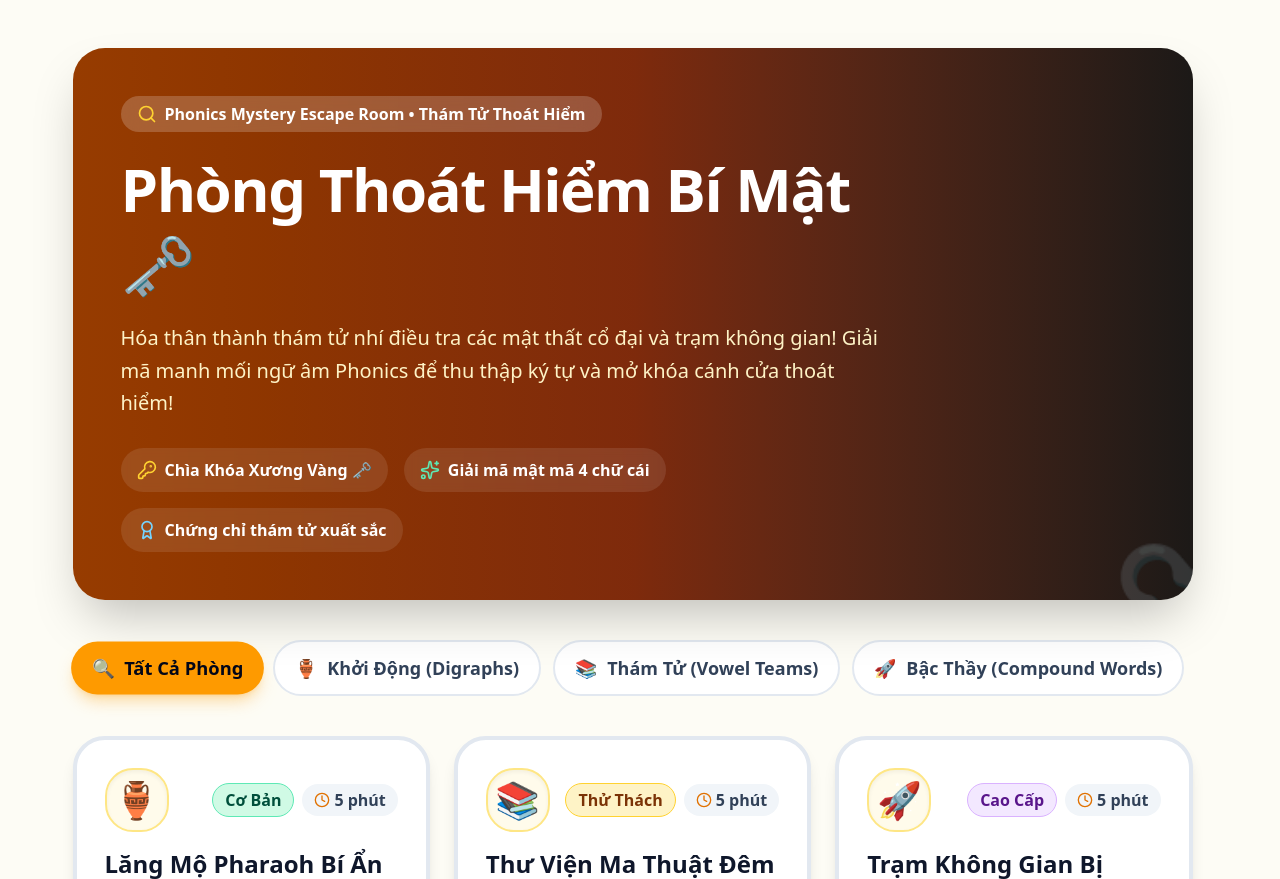
it: Phonics Mystery Escape Room Components › PhonicsEscapeRoomHub › filters rooms by difficulty correctly
Click the button "📚 Thám Tử (Vowel Teams)" at (697, 668), box [553,640,840,696]
(page scrolled)
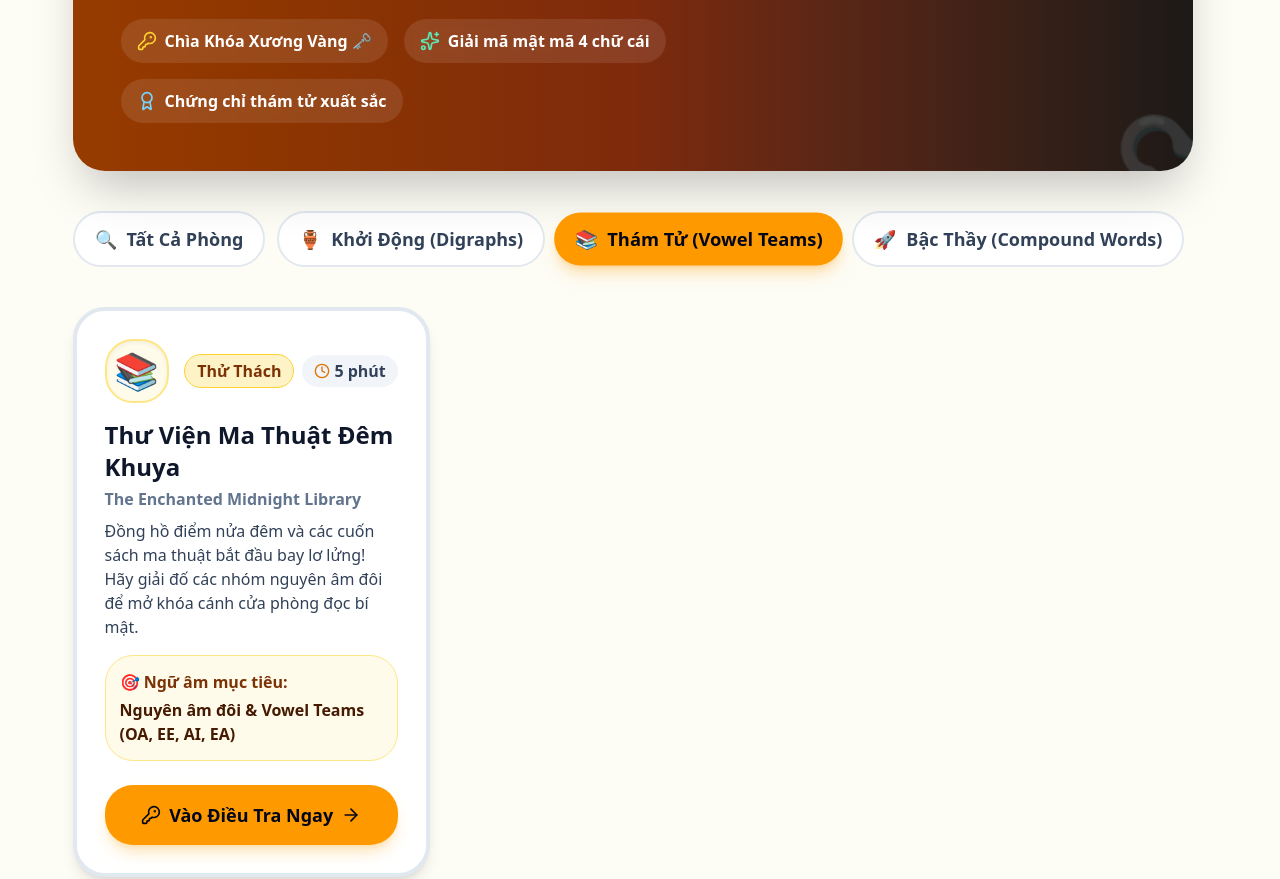
Expected: the heading "Thư Viện Ma Thuật Đêm Khuya" is shown, [104,418,398,482]
Now the heading "Lăng Mộ Pharaoh Bí Ẩn" is gone
